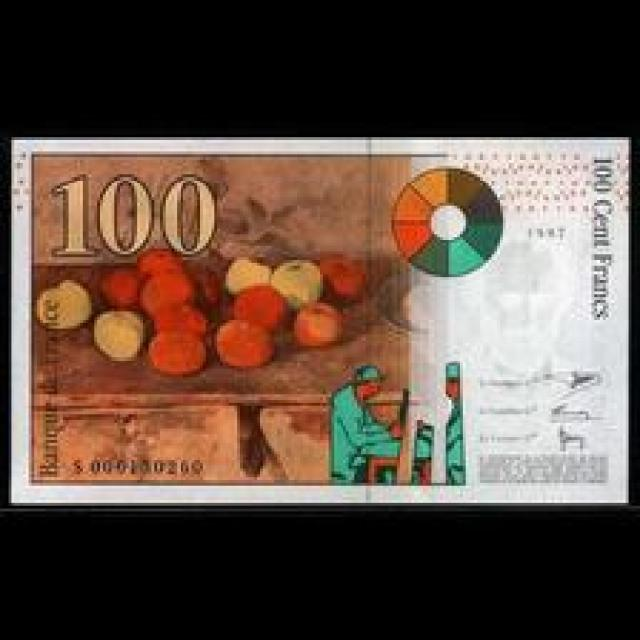banknote: (9, 136, 634, 503), (45, 161, 226, 266), (584, 152, 620, 199)
